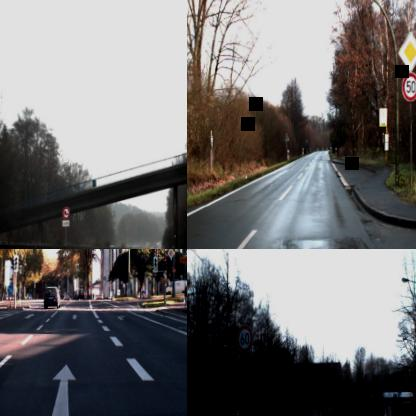keep right: (7, 284, 13, 295)
no overtaking: (61, 206, 70, 220)
priority road: (397, 31, 416, 72), (166, 249, 174, 259)
speed limit 50: (400, 71, 416, 101)
speed limit 60: (235, 324, 253, 354)
